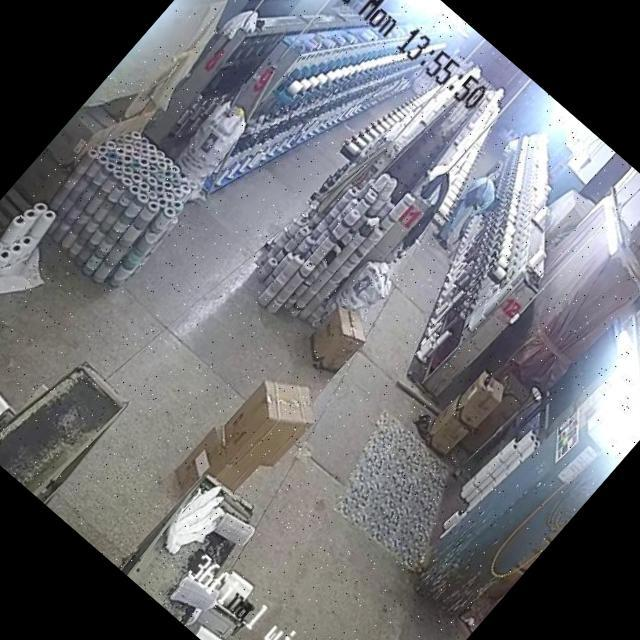person: (431, 176, 504, 254)
